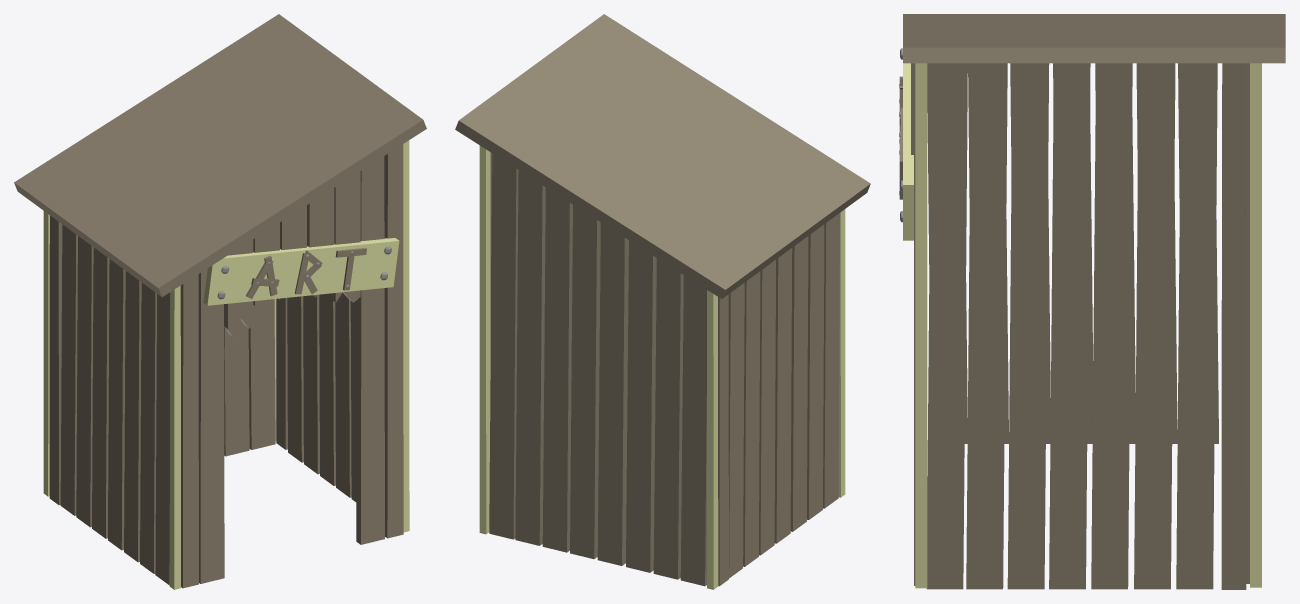
The model's file is ArtHutje.fbx.
The picture shows the model from 3 angles, left to right: view 1: azimuth 30°, elevation 25°; view 2: azimuth 150°, elevation 25°; view 3: azimuth 270°, elevation 25°; orthographic projection. The views are drawn at different scales.
Visible parts, largest first — view 1: pCube4, pasted__pCube5 (×3), pasted__pasted__pasted__pasted__pasted__pasted__pasted__past (×5), pasted__pasted__pCube5 (×3), pasted__pasted__pasted__pasted__pCube5 (×4), pasted__pasted__pasted__pasted__pasted__pasted__pasted__pCub (×3), pasted__pasted__pasted__pasted__pasted__pCube5 (×2), pasted__pasted__pasted__pasted__pasted__pasted__pCube5 (×2), pCube6, pasted__pasted__pasted__pCube5 (×2), pCube5, pasted__pasted__pasted__pasted__pCube2 (+3 smaller); view 2: pCube4, pasted__pasted__pasted__pasted__pasted__pasted__pasted__past (×6), pasted__pasted__pasted__pasted__pCube5 (×3), pasted__pasted__pasted__pCube5 (×3), pasted__pasted__pasted__pasted__pasted__pCube5 (×2), pasted__pasted__pasted__pasted__pasted__pasted__pCube5 (×2), pasted__pasted__pasted__pasted__pasted__pasted__pasted__pCub (×2), pasted__pCube5; view 3: pasted__pasted__pCube5 (×3), pasted__pasted__pasted__pCube5 (×3), pasted__pasted__pasted__pasted__pasted__pasted__pasted__past (×4), pasted__pasted__pasted__pasted__pasted__pasted__pCube5 (×2), pasted__pasted__pasted__pasted__pasted__pasted__pasted__pCub (×2), pasted__pasted__pasted__pasted__pasted__pCube5 (×2), pasted__pasted__pasted__pasted__pCube5 (×2), pCube4, pCube6, pasted__pCube5.
Boxes of the visible parts, x1,y1,x2,y2 form: pCube4: (14, 14, 426, 296); pasted__pCube5 (×3): (169, 144, 403, 589); pasted__pasted__pasted__pasted__pasted__pasted__pasted__past (×5): (124, 222, 303, 585); pasted__pasted__pCube5 (×3): (276, 140, 409, 544); pasted__pasted__pasted__pasted__pCube5 (×4): (43, 211, 356, 515); pasted__pasted__pasted__pasted__pasted__pasted__pasted__pCub (×3): (108, 188, 334, 550); pasted__pasted__pasted__pasted__pasted__pCube5 (×2): (76, 236, 351, 527); pasted__pasted__pasted__pasted__pasted__pasted__pCube5 (×2): (92, 247, 335, 538); pCube6: (203, 238, 399, 305); pasted__pasted__pasted__pCube5 (×2): (49, 215, 275, 505); pCube5: (180, 274, 198, 588); pasted__pasted__pasted__pasted__pCube2: (331, 171, 360, 302); pCube4: (455, 14, 870, 298); pasted__pasted__pasted__pasted__pasted__pasted__pasted__past (×6): (626, 213, 839, 586); pasted__pasted__pasted__pasted__pCube5 (×3): (515, 170, 744, 589); pasted__pasted__pasted__pCube5 (×3): (479, 145, 728, 586); pasted__pasted__pasted__pasted__pasted__pCube5 (×2): (542, 187, 760, 566); pasted__pasted__pasted__pasted__pasted__pasted__pCube5 (×2): (570, 205, 775, 559); pasted__pasted__pasted__pasted__pasted__pasted__pasted__pCub (×2): (597, 222, 792, 565); pasted__pCube5: (838, 209, 845, 497); pasted__pasted__pCube5 (×3): (915, 63, 1246, 589); pasted__pasted__pasted__pCube5 (×3): (966, 63, 1261, 589); pasted__pasted__pasted__pasted__pasted__pasted__pasted__past (×4): (927, 63, 1217, 589); pasted__pasted__pasted__pasted__pasted__pasted__pCube5 (×2): (1091, 63, 1135, 589); pasted__pasted__pasted__pasted__pasted__pasted__pasted__pCub (×2): (1053, 63, 1175, 589); pasted__pasted__pasted__pasted__pasted__pCube5 (×2): (1049, 63, 1177, 589); pasted__pasted__pasted__pasted__pCube5 (×2): (1007, 63, 1218, 589); pCube4: (903, 14, 1285, 63); pCube6: (903, 63, 913, 240); pasted__pCube5: (914, 63, 915, 585).
Size of the model in its own units: 6.94 by 10.23 by 6.53.
